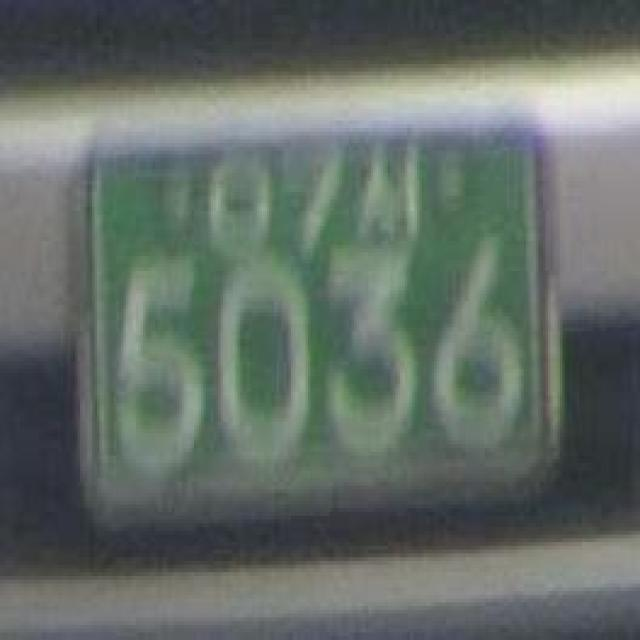illegal_plate: (66, 101, 564, 564)
